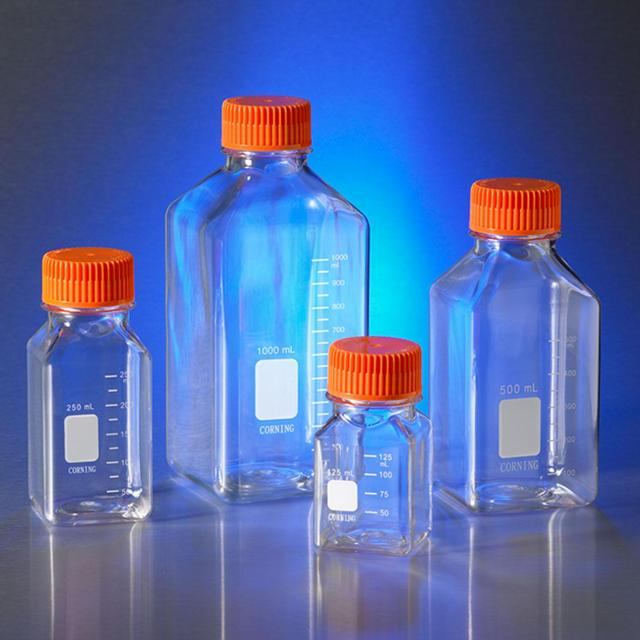plastic_bottle: (158, 79, 389, 518), (418, 164, 625, 527), (15, 234, 173, 541), (313, 336, 444, 562)
